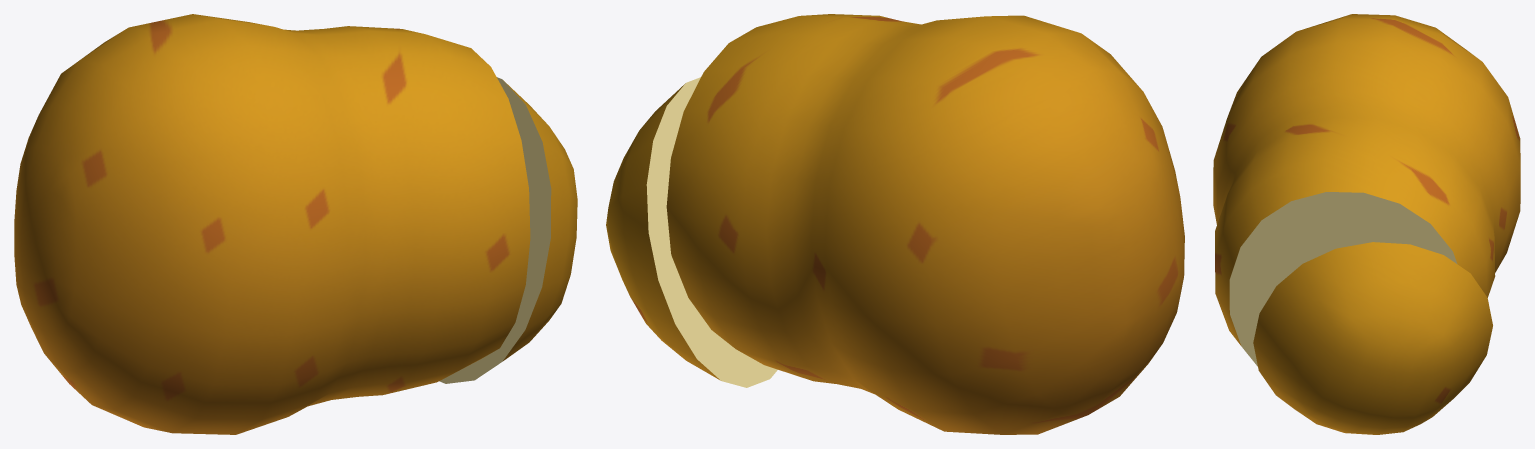
File: Potato_01_S1.fbx
3 renders of one model, left to right at view 1: azimuth 30°, elevation 25°; view 2: azimuth 150°, elevation 25°; view 3: azimuth 270°, elevation 25°, orthographic. The views are drawn at different scales.
Visible parts, largest first — view 1: Potato_01_S1; view 2: Potato_01_S1; view 3: Potato_01_S1.
Part boxes in pixels (left/top/right/bottom): Potato_01_S1: left=14, top=14, right=577, bottom=434; Potato_01_S1: left=606, top=14, right=1184, bottom=434; Potato_01_S1: left=1213, top=14, right=1520, bottom=434.
Bounding box in the file's own units: 62.53 × 44.49 × 39.91.
